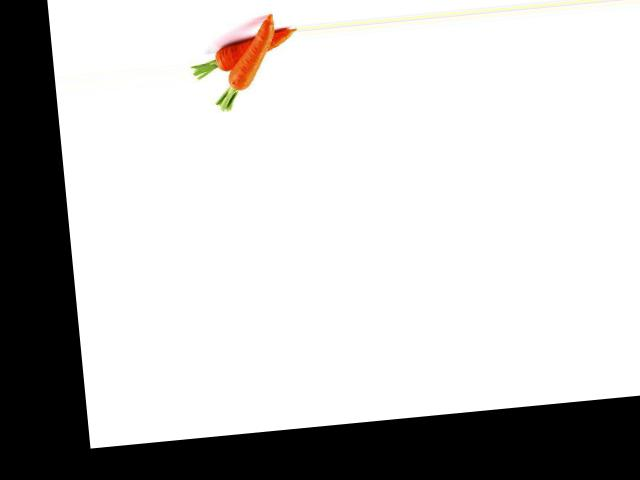carrot: (200, 31, 298, 69)
